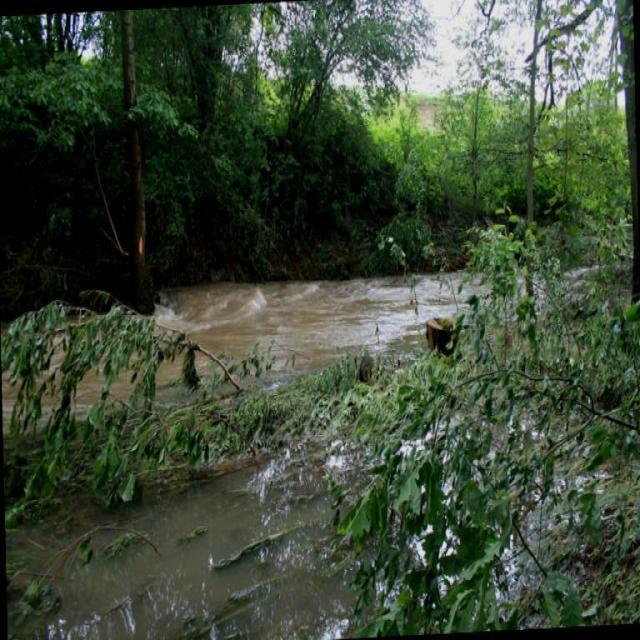flood: (0, 254, 476, 406)
